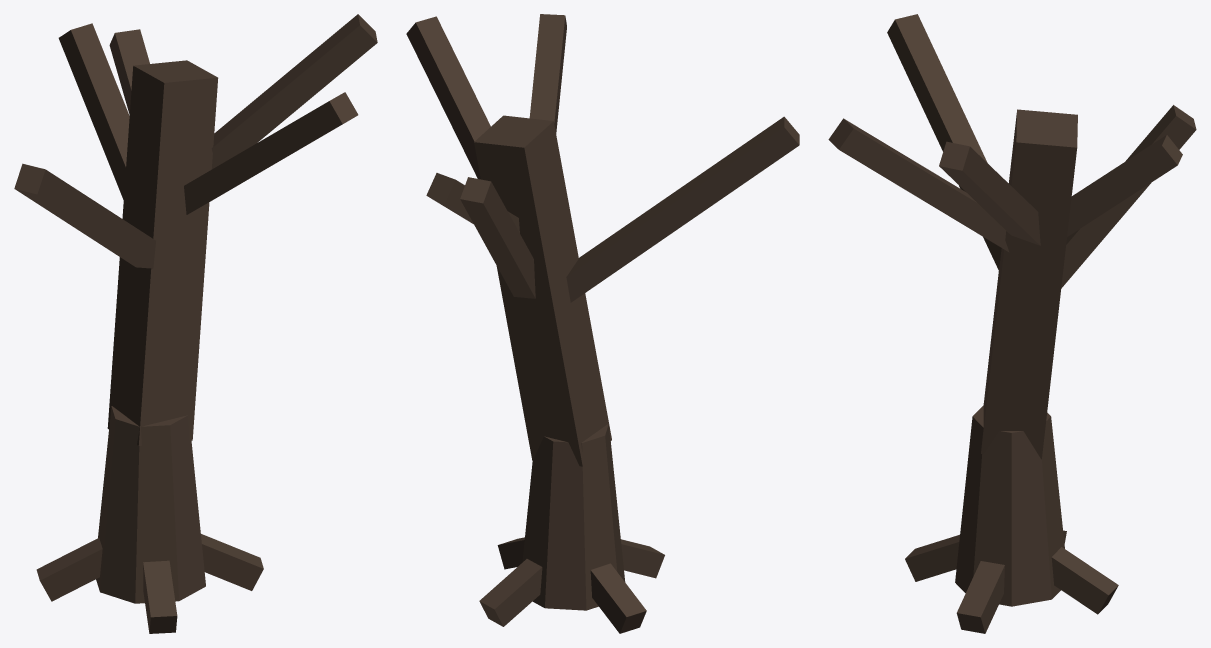
Rendered from tree_willow_m_trunk.fbx.
The picture shows the model from 3 angles, left to right: view 1: azimuth 30°, elevation 25°; view 2: azimuth 150°, elevation 25°; view 3: azimuth 270°, elevation 25°; orthographic projection. The views are drawn at different scales.
Parts seen in each view (by area): view 1: tree_willow_m_trunk; view 2: tree_willow_m_trunk; view 3: tree_willow_m_trunk.
Boxes of the visible parts, x1,y1,x2,y2 form: tree_willow_m_trunk: (14, 14, 377, 633); tree_willow_m_trunk: (406, 14, 799, 633); tree_willow_m_trunk: (828, 14, 1196, 633).
Size of the model in its own units: 1006 by 1355 by 843.
